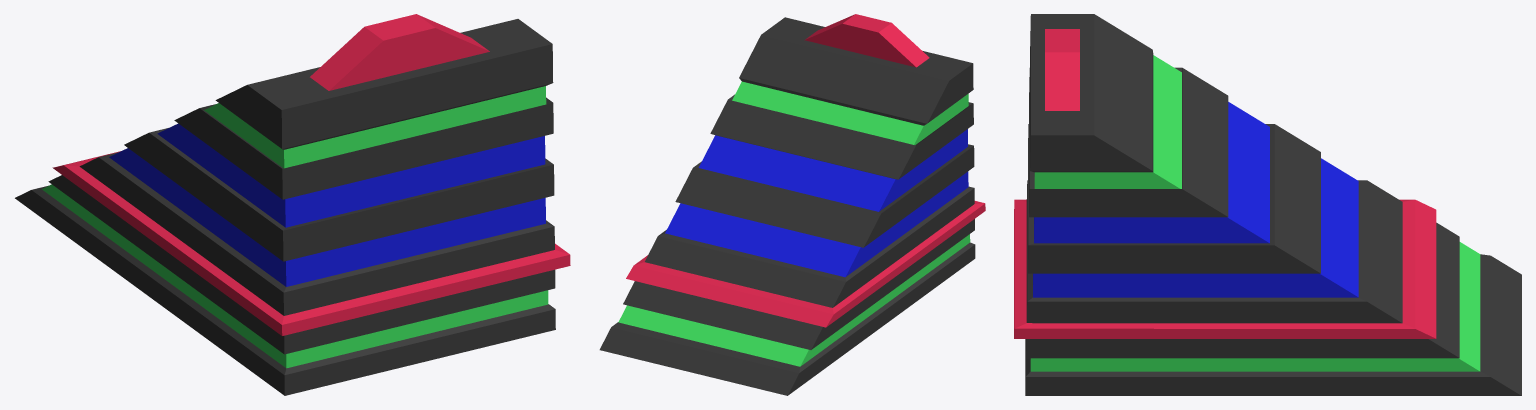
File: PyramidBuilding.fbx
The picture shows the model from 3 angles, left to right: view 1: azimuth 30°, elevation 25°; view 2: azimuth 150°, elevation 25°; view 3: azimuth 270°, elevation 25°; orthographic projection. The views are drawn at different scales.
Visible parts, largest first — view 1: Cube; view 2: Cube; view 3: Cube.
Part boxes in pixels (x1,y1,x2,y2): Cube: (15, 14, 570, 395); Cube: (599, 14, 985, 395); Cube: (1014, 14, 1521, 395).
Bounding box in the file's own units: 10.93 × 18.14 × 11.62.
